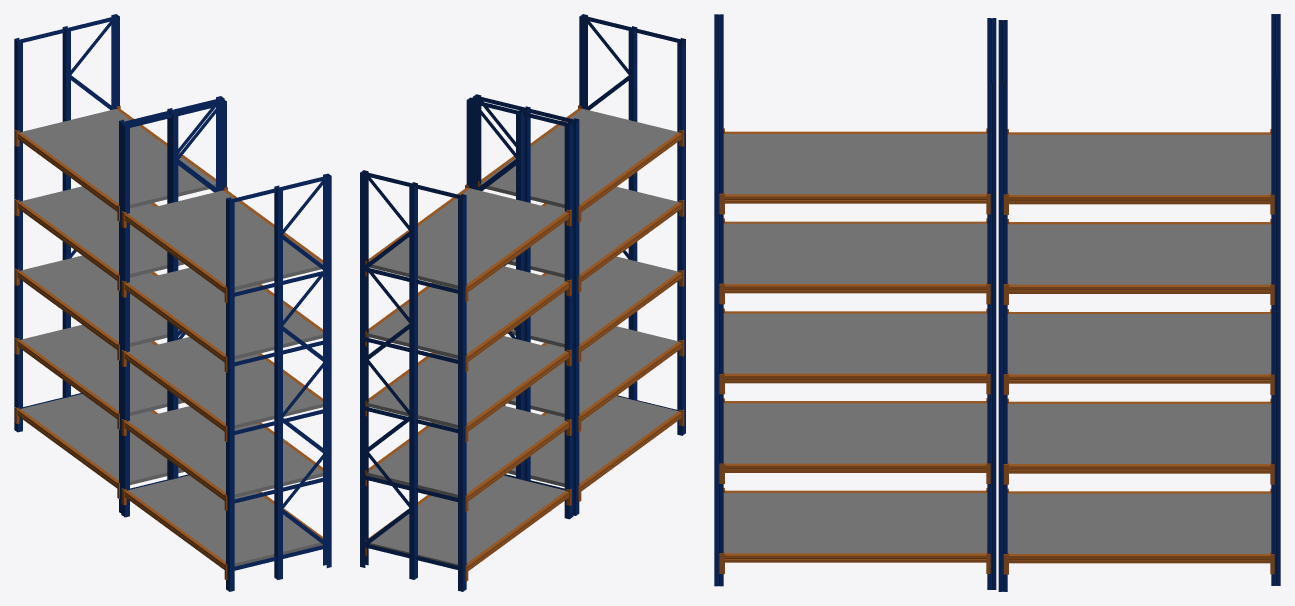
The model's file is storage-rack-empty.glb.
3 renders of one model, left to right at view 1: azimuth 30°, elevation 25°; view 2: azimuth 150°, elevation 25°; view 3: azimuth 270°, elevation 25°, orthographic. The views are drawn at different scales.
Visible parts, largest first — view 1: mezanine racking.007, mezanine racking.003, mezanine racking.006, mezanine racking.004, mezanine racking.001, mezanine racking.002; view 2: mezanine racking.003, mezanine racking.007, mezanine racking.004, mezanine racking.002, mezanine racking.006, mezanine racking.001; view 3: mezanine racking.007, mezanine racking.003, mezanine racking.004, mezanine racking.001, mezanine racking.006, mezanine racking.002.
Part boxes in pixels (<box>): mezanine racking.007: <box>121,187,322,580</box>; mezanine racking.003: <box>14,105,215,498</box>; mezanine racking.006: <box>226,173,331,591</box>; mezanine racking.004: <box>14,14,119,432</box>; mezanine racking.001: <box>121,99,226,517</box>; mezanine racking.002: <box>119,96,224,513</box>; mezanine racking.003: <box>365,184,571,581</box>; mezanine racking.007: <box>478,105,684,502</box>; mezanine racking.004: <box>360,170,466,591</box>; mezanine racking.002: <box>466,97,573,519</box>; mezanine racking.006: <box>579,14,685,435</box>; mezanine racking.001: <box>472,94,579,515</box>; mezanine racking.007: <box>719,128,990,573</box>; mezanine racking.003: <box>1003,129,1274,574</box>; mezanine racking.004: <box>1271,14,1280,585</box>; mezanine racking.001: <box>987,18,996,589</box>; mezanine racking.006: <box>714,14,723,586</box>; mezanine racking.002: <box>998,20,1007,591</box>.
Bounding box in the file's own units: 1.21 × 4.29 × 4.29.
